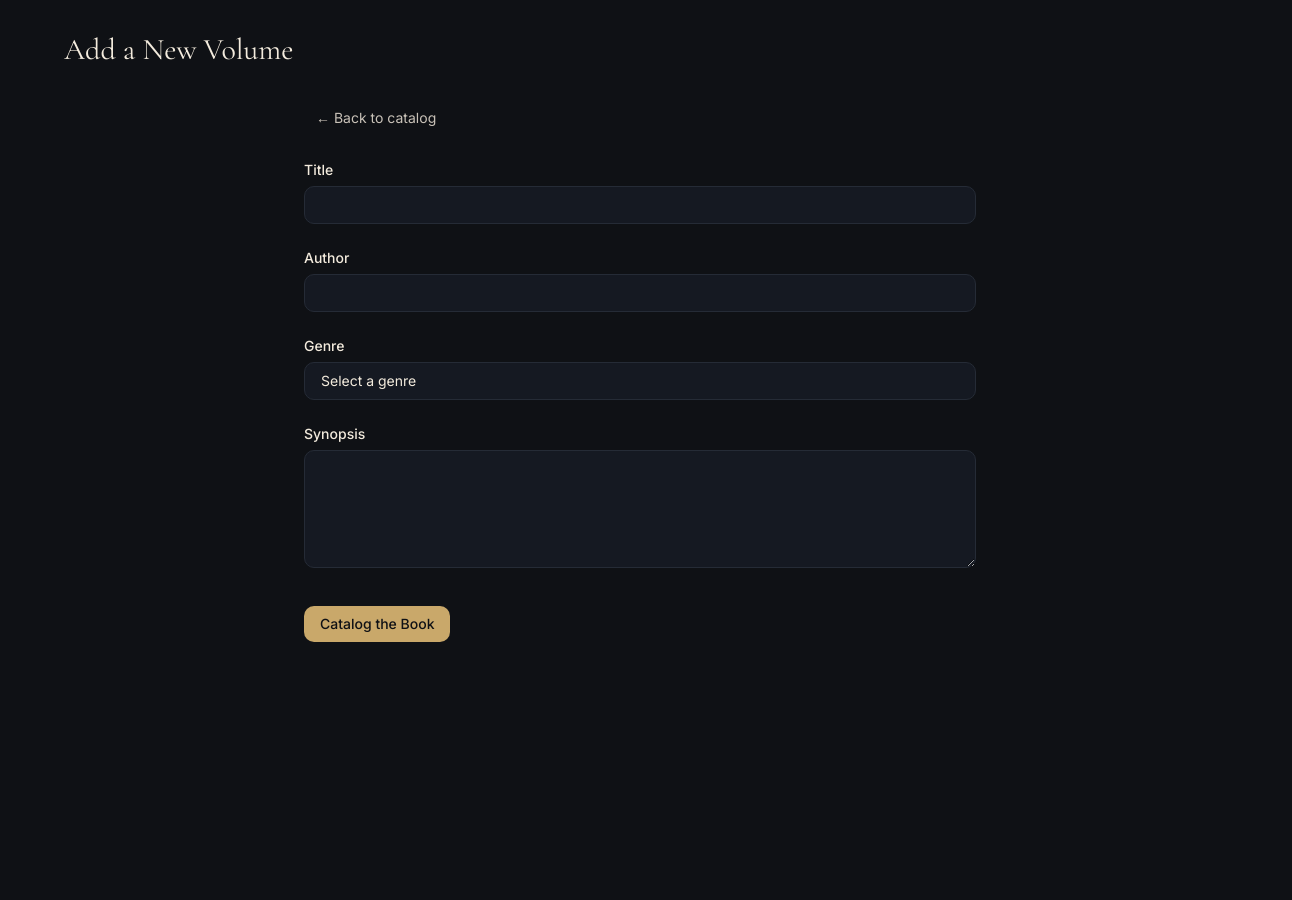
CreateBookPage › creates a book and redirects to the catalog with the new volume listed
The width and height of the screenshot is (1292, 900).
Type "The Observatory at the Edge of Sleep" into the field labelled "Title" at (640, 205), box left=304, top=186, right=976, bottom=224
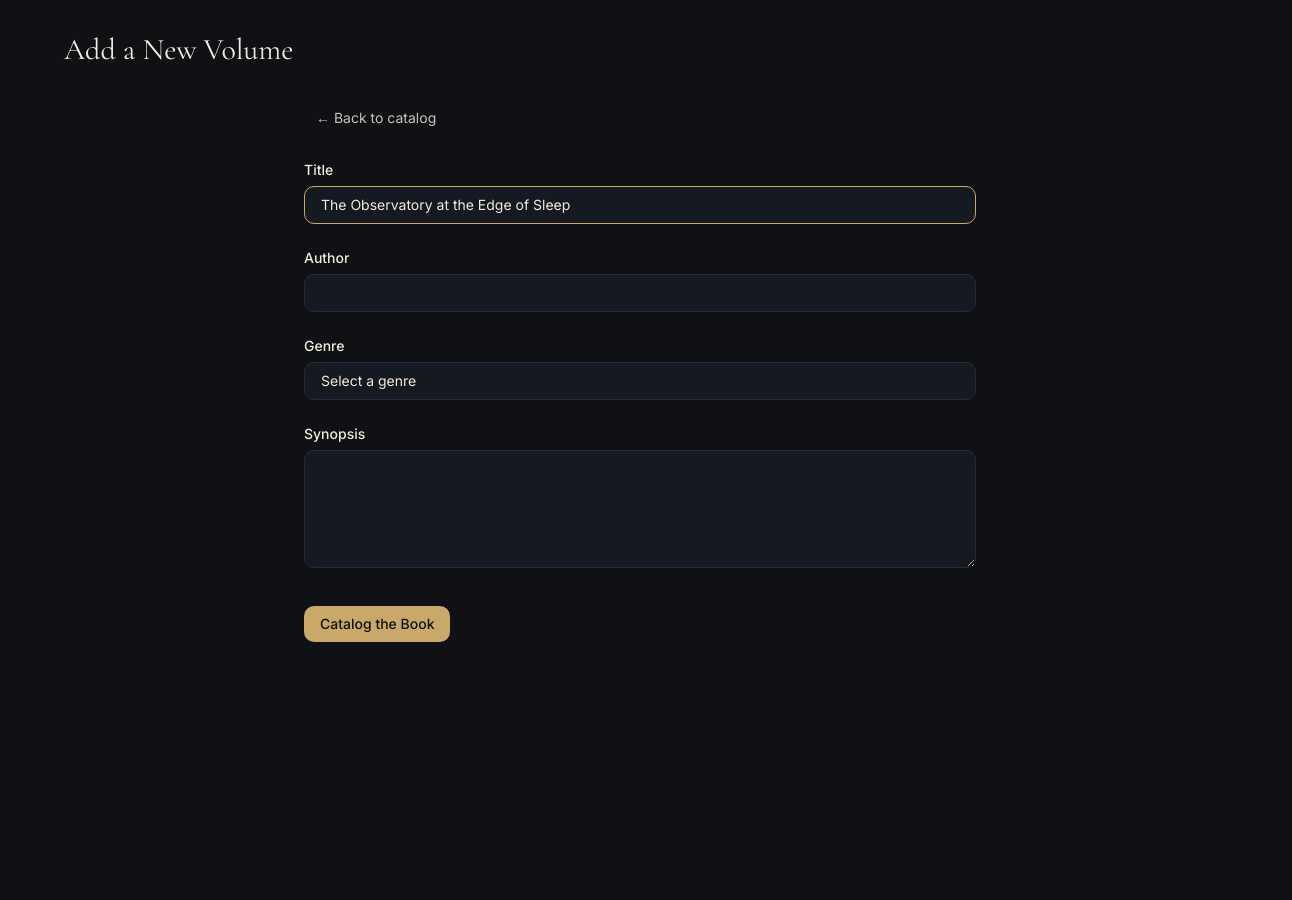
Type "Nadia Voss" into the field labelled "Author" at (640, 293), box left=304, top=274, right=976, bottom=312
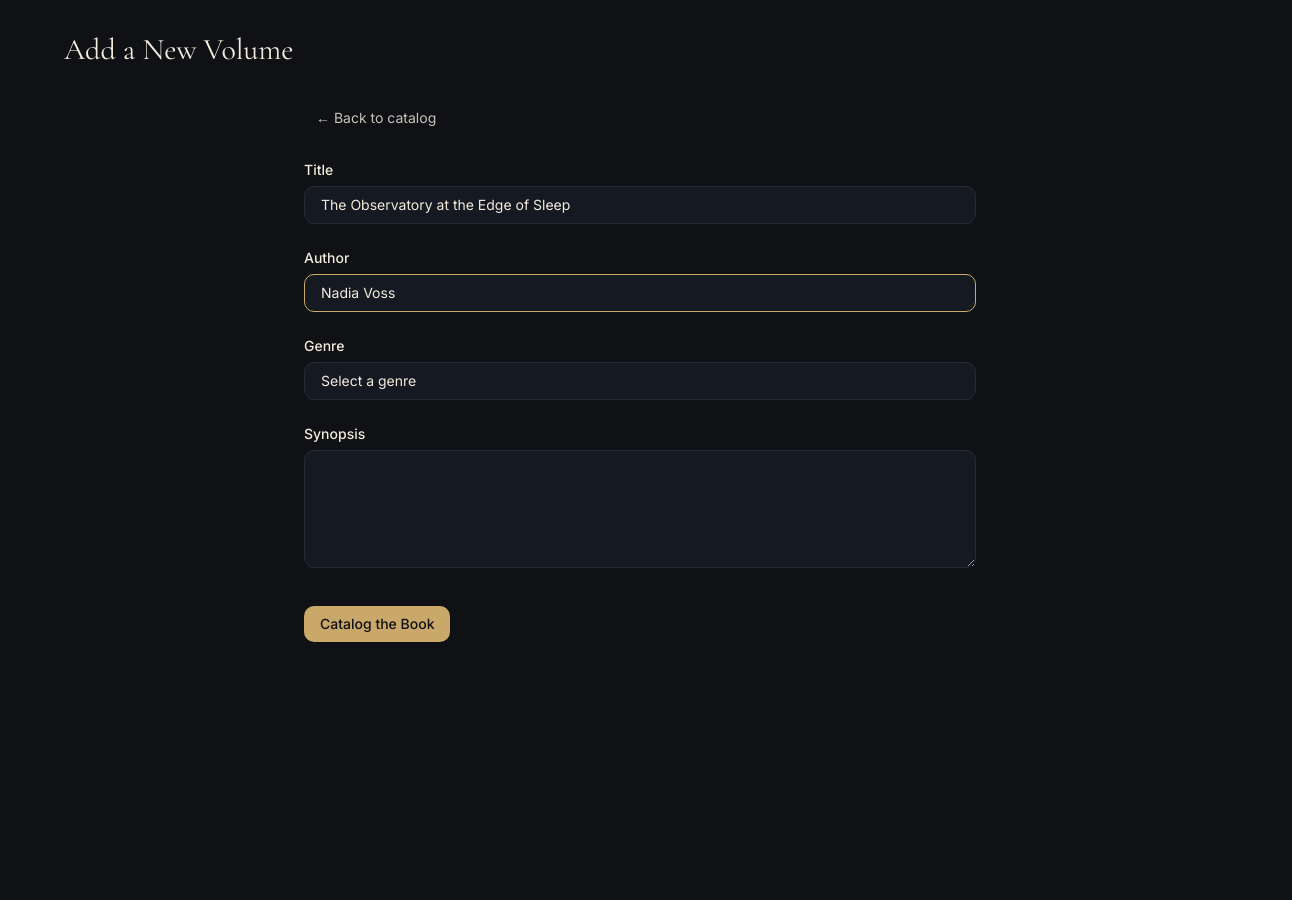
Select "Horror" in the dropdown labelled "Genre" at (640, 381), box left=304, top=362, right=976, bottom=400
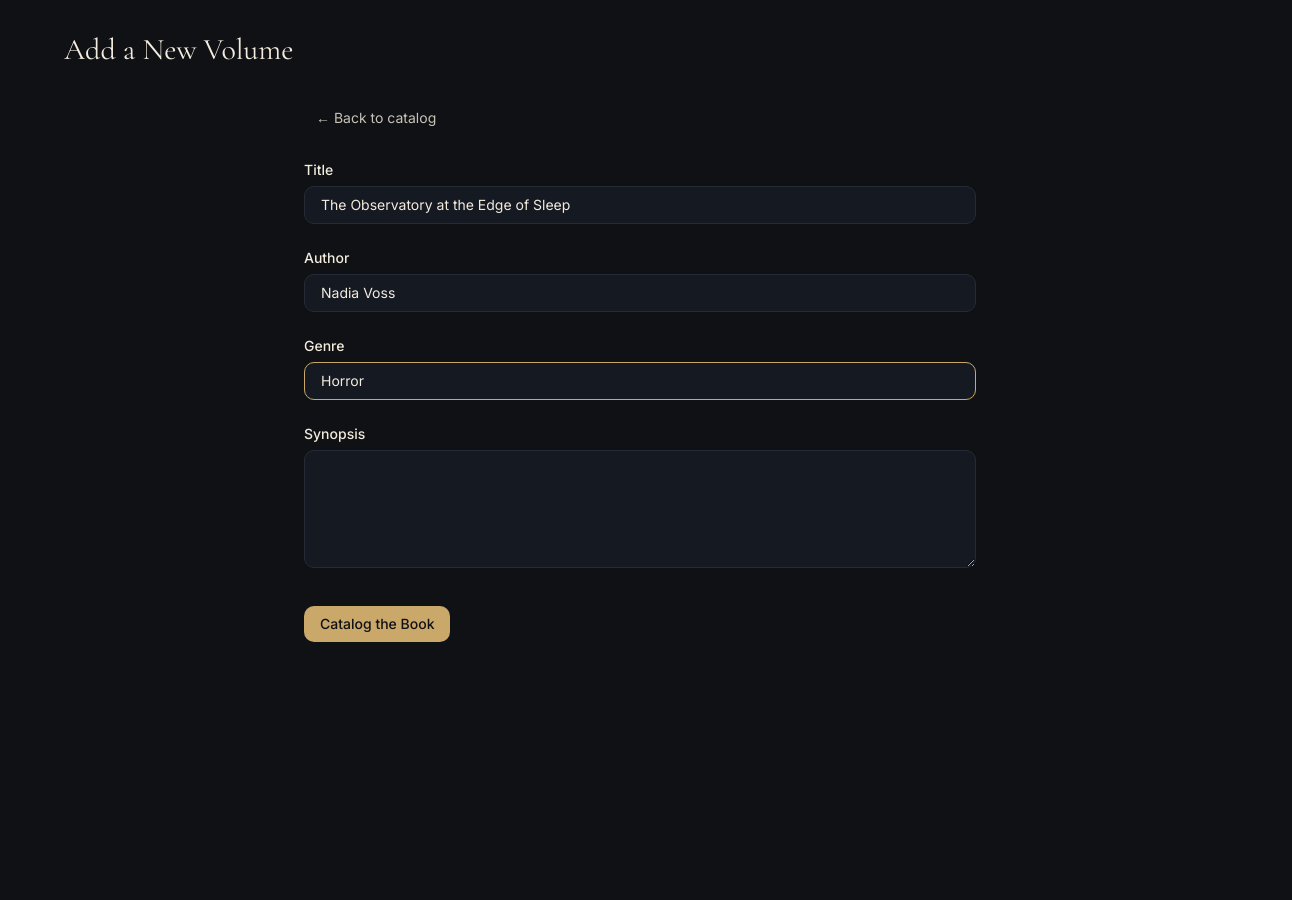
Type "An astronomer records the stars as they dim one by one." into the text box labelled "Synopsis" at (640, 509), box left=304, top=450, right=976, bottom=568
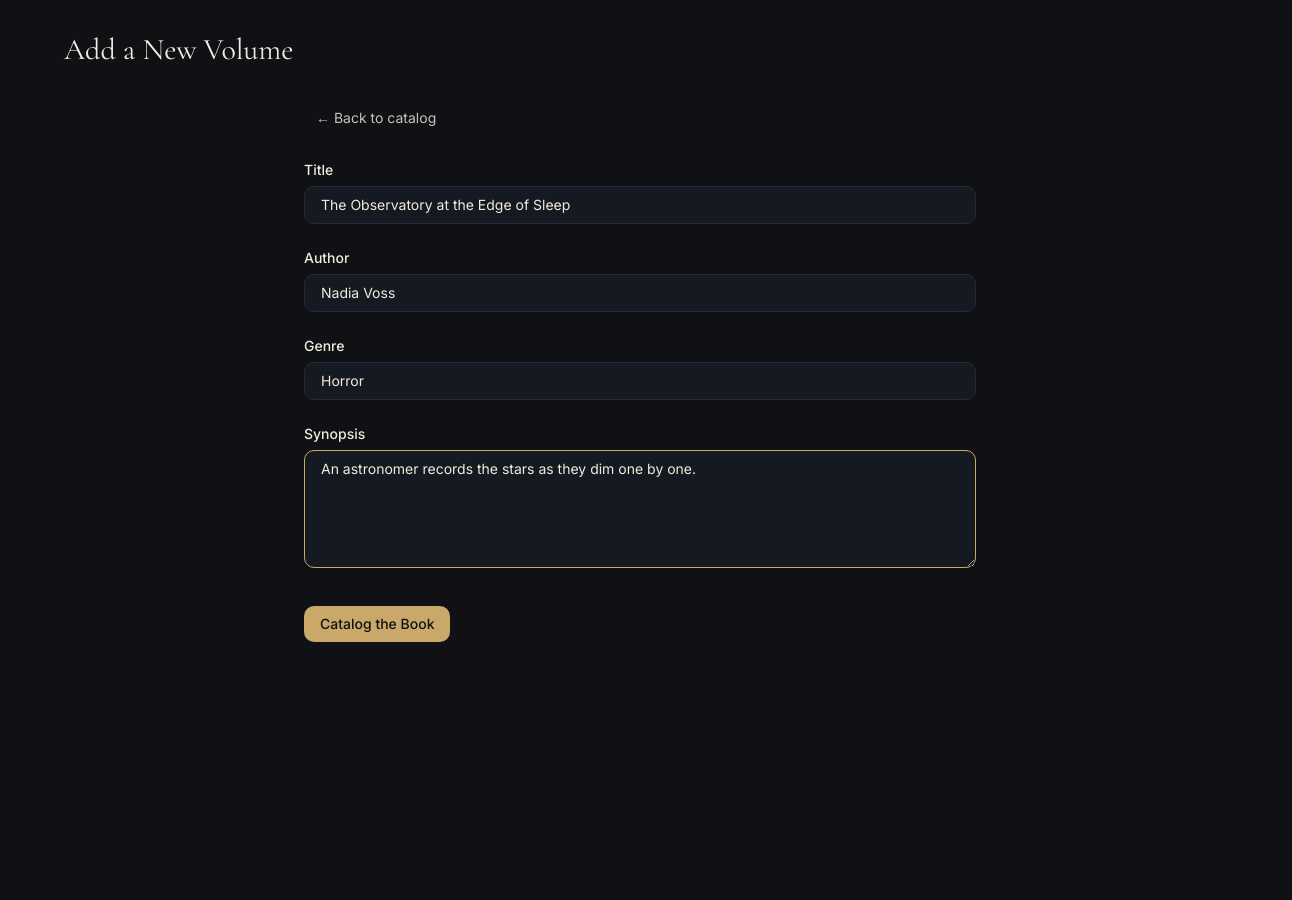
Click the button "Catalog the Book" at (377, 624), box left=304, top=606, right=450, bottom=642
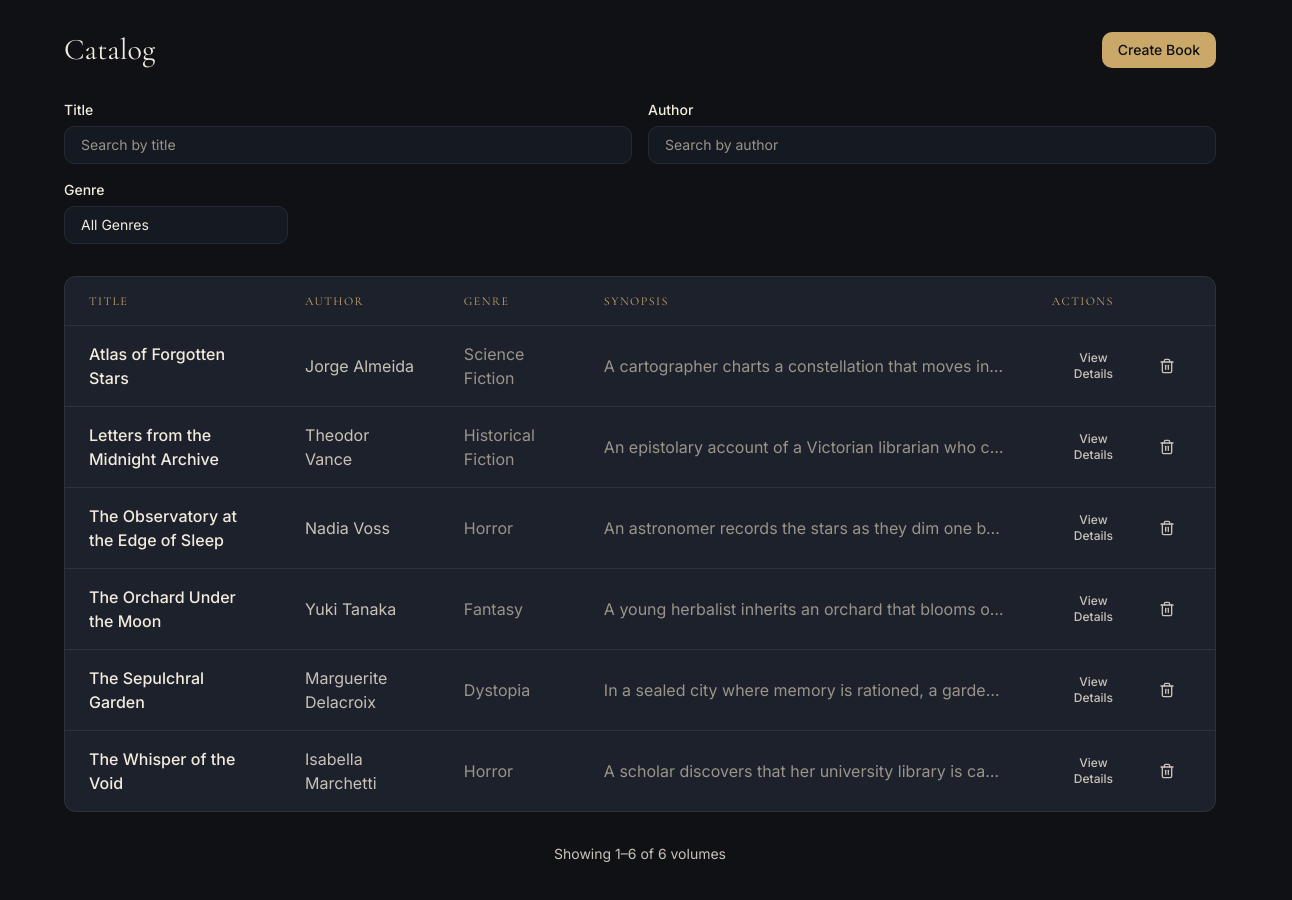
Result: the heading "Catalog" is shown at left=64, top=32, right=155, bottom=68
Result: the text "The Observatory at the Edge of Sleep" is shown at left=65, top=488, right=281, bottom=568
